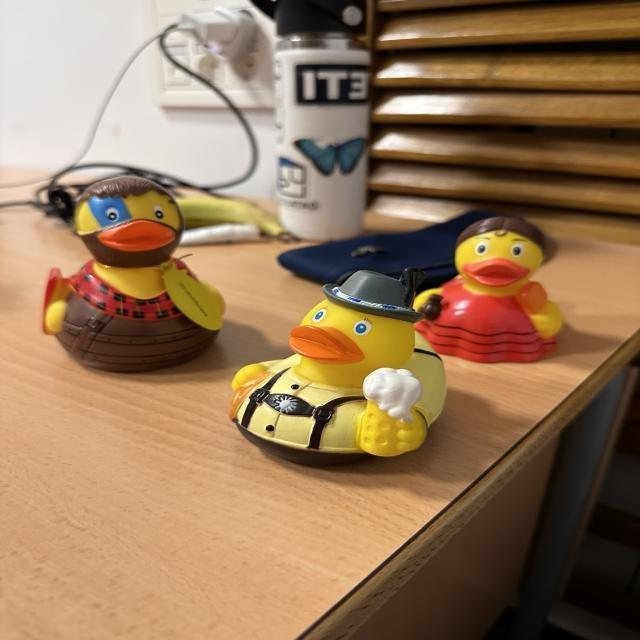rubber-duck: (229, 269, 444, 461), (42, 175, 222, 370), (414, 215, 562, 360)
